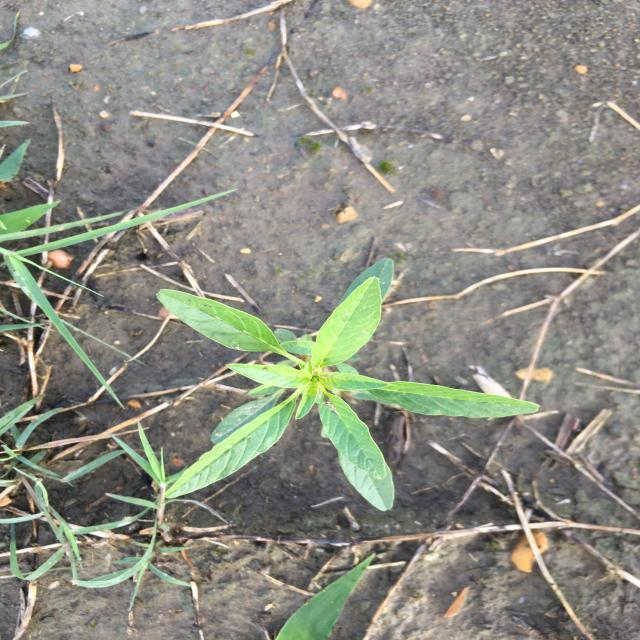Waterhemp: (151, 255, 544, 512)
